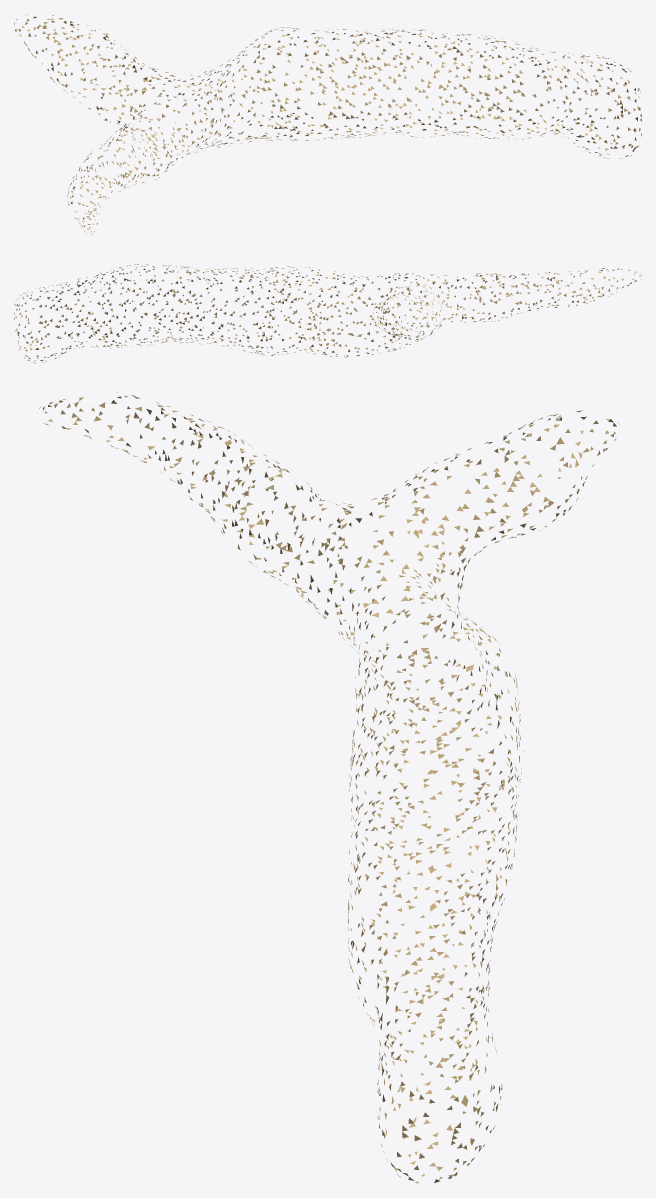
The model's file is morph_007.glb.
3 views of the same model, one above another, from view 1: azimuth 30°, elevation 25°; view 2: azimuth 150°, elevation 25°; view 3: azimuth 270°, elevation 25° (orthographic). The views are drawn at different scales.
Size of the model in its own units: 126 by 41.79 by 60.39.
